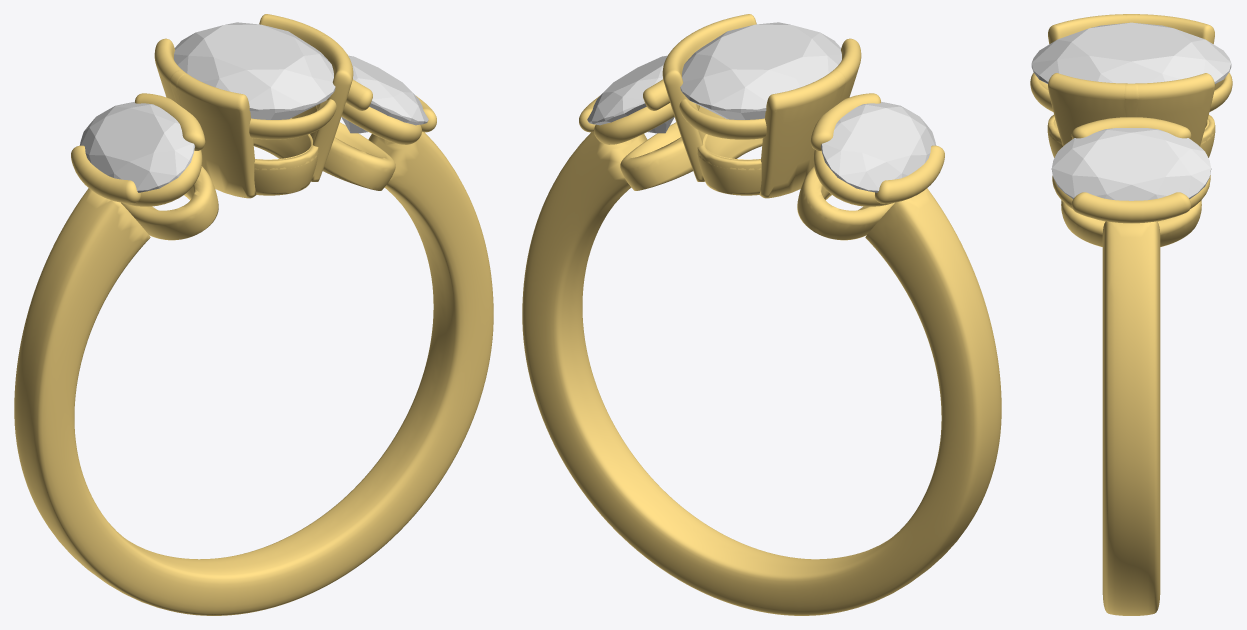
File: diamond-oval-yellowgold-halfmoonbezel-straightband-3stone.glb
The picture shows the model from 3 angles, left to right: view 1: azimuth 30°, elevation 25°; view 2: azimuth 150°, elevation 25°; view 3: azimuth 270°, elevation 25°; orthographic projection.
Parts seen in each view (by area): view 1: metal, stone.003, side.006, side.007; view 2: metal, stone.003, side.006, side.007; view 3: metal, side.007, stone.003.
Part boxes in pixels (x1=…): metal: x1=14, y1=14, x2=493, y2=615; stone.003: x1=174, y1=22, x2=335, y2=119; side.006: x1=80, y1=101, x2=194, y2=192; side.007: x1=341, y1=55, x2=428, y2=133; metal: x1=522, y1=14, x2=1001, y2=615; stone.003: x1=680, y1=22, x2=841, y2=119; side.006: x1=821, y1=101, x2=935, y2=192; side.007: x1=587, y1=55, x2=674, y2=133; metal: x1=1030, y1=14, x2=1232, y2=615; side.007: x1=1051, y1=128, x2=1211, y2=200; stone.003: x1=1031, y1=22, x2=1231, y2=83.
Bounding box in the file's own units: 20.11 × 23.21 × 7.75.
